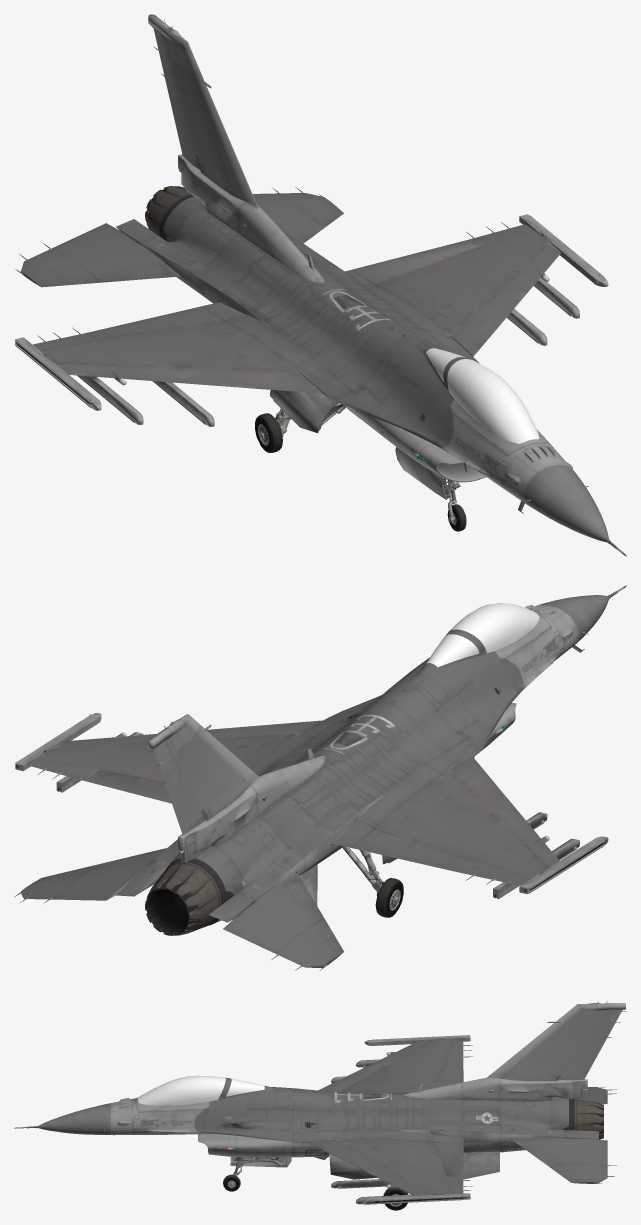
File: jet_f16.glb
The picture shows the model from 3 angles, top to bottom: view 1: azimuth 30°, elevation 25°; view 2: azimuth 150°, elevation 25°; view 3: azimuth 270°, elevation 25°; orthographic projection. The views are drawn at different scales.
Visible parts, largest first — view 1: BODY; view 2: BODY; view 3: BODY.
Part boxes in pixels (left/top/right/bottom): BODY: left=15, top=14, right=626, bottom=556; BODY: left=14, top=585, right=626, bottom=970; BODY: left=14, top=1001, right=625, bottom=1210.
Size of the model in its own units: 9.39 by 5.18 by 15.09.
Materials: 2 (1 with a texture image).
